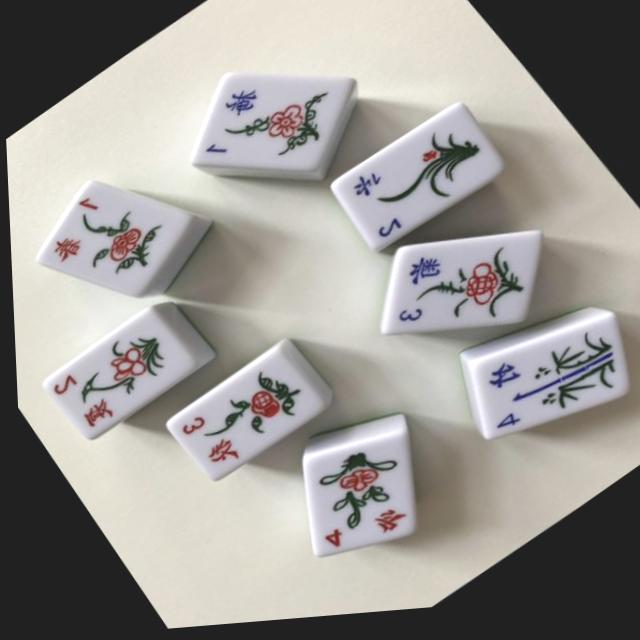bf1: (196, 69, 367, 173)
bf2: (336, 101, 514, 255)
bf3: (385, 236, 548, 340)
bf4: (471, 320, 629, 450)
bs1: (41, 173, 203, 297)
bs2: (45, 302, 206, 441)
bs3: (167, 346, 331, 485)
bs4: (303, 434, 415, 564)
